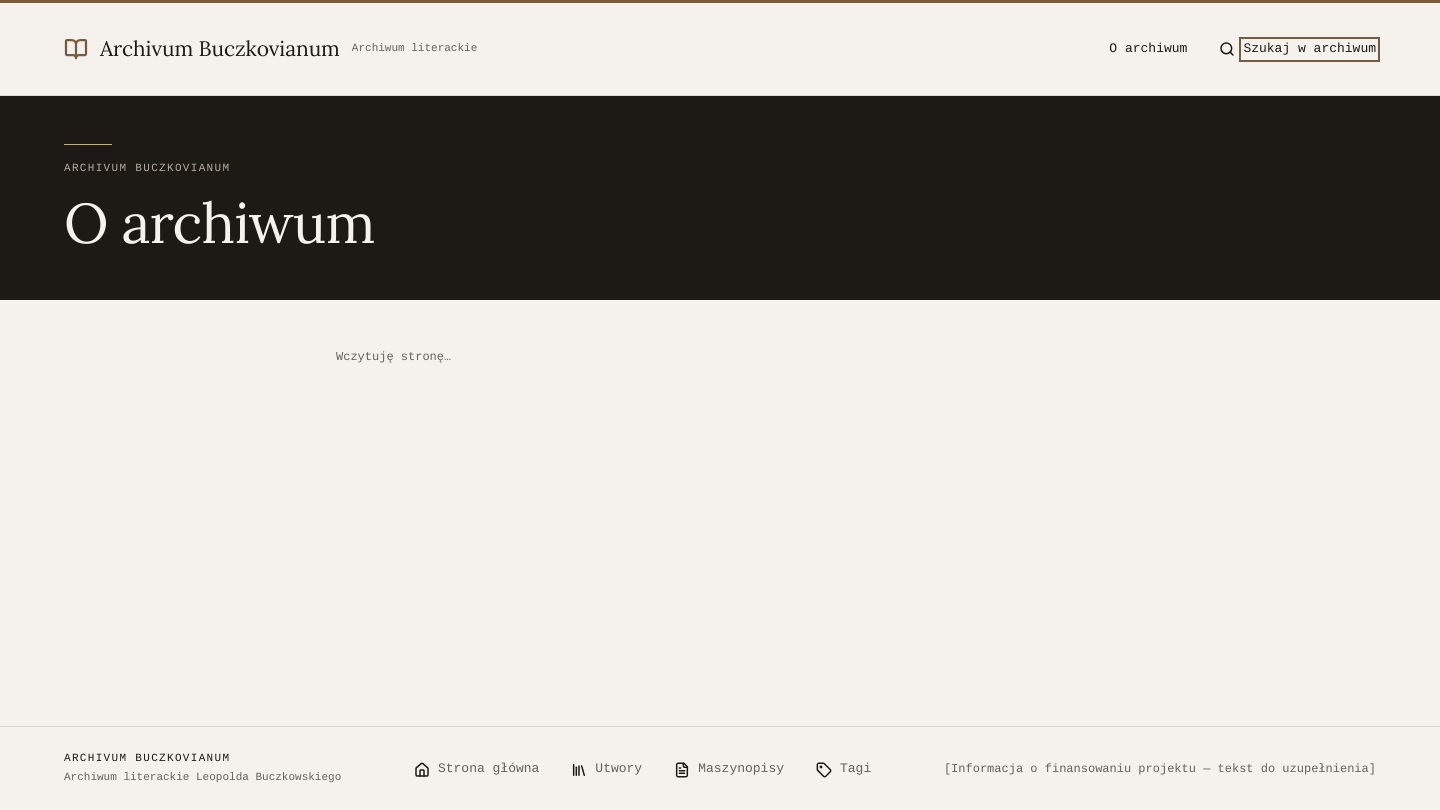
Scenario: SearchCombobox › US-RA-17 AC1: without matches the list stays closed
Type "czarny" into the dropdown labelled "Szukaj w archiwum". click: (1310, 49)
box: [1243,41,1376,58]
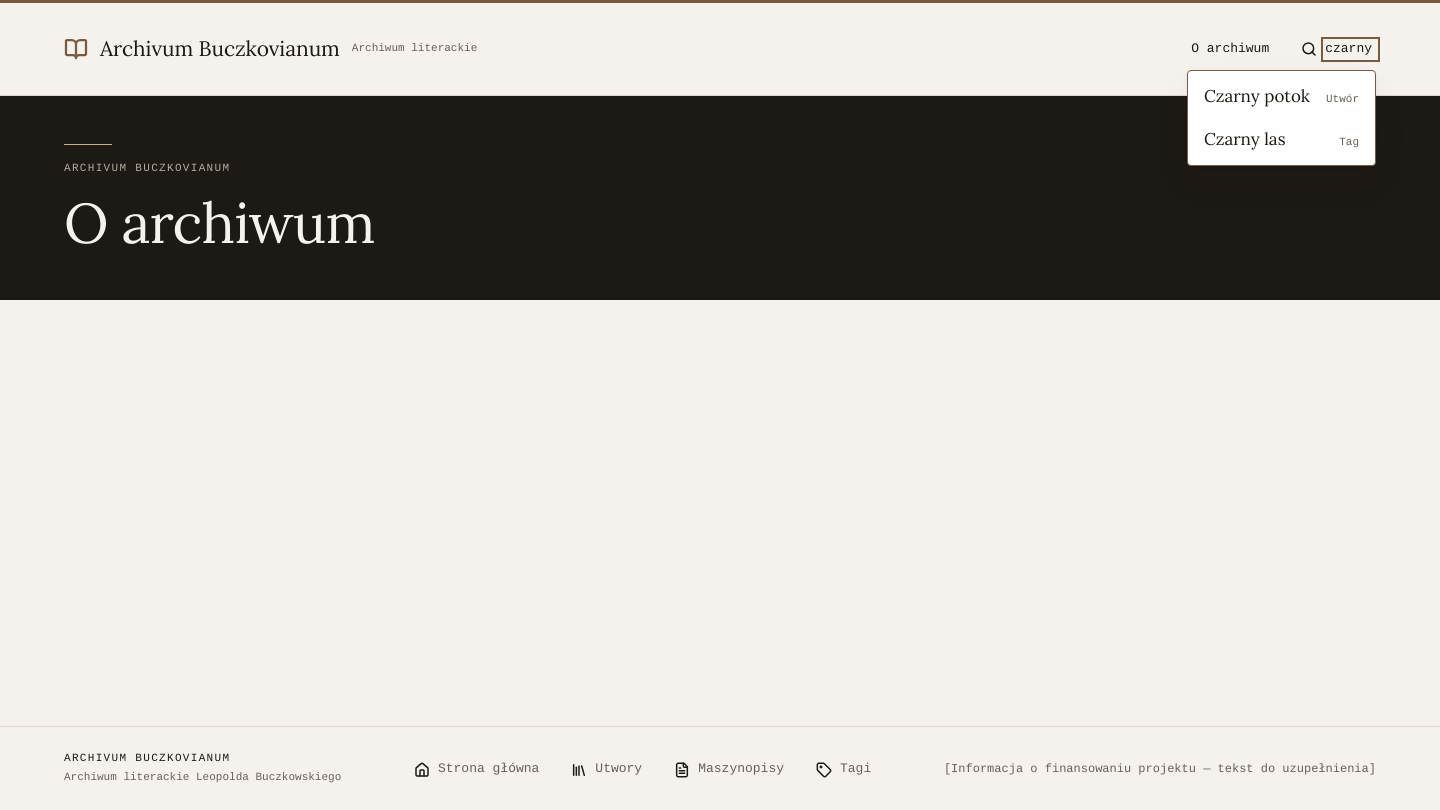
Replace the text in the dropdown named "Szukaj w archiwum" with "wertepy". click: (1351, 49)
box: [1325,41,1376,58]
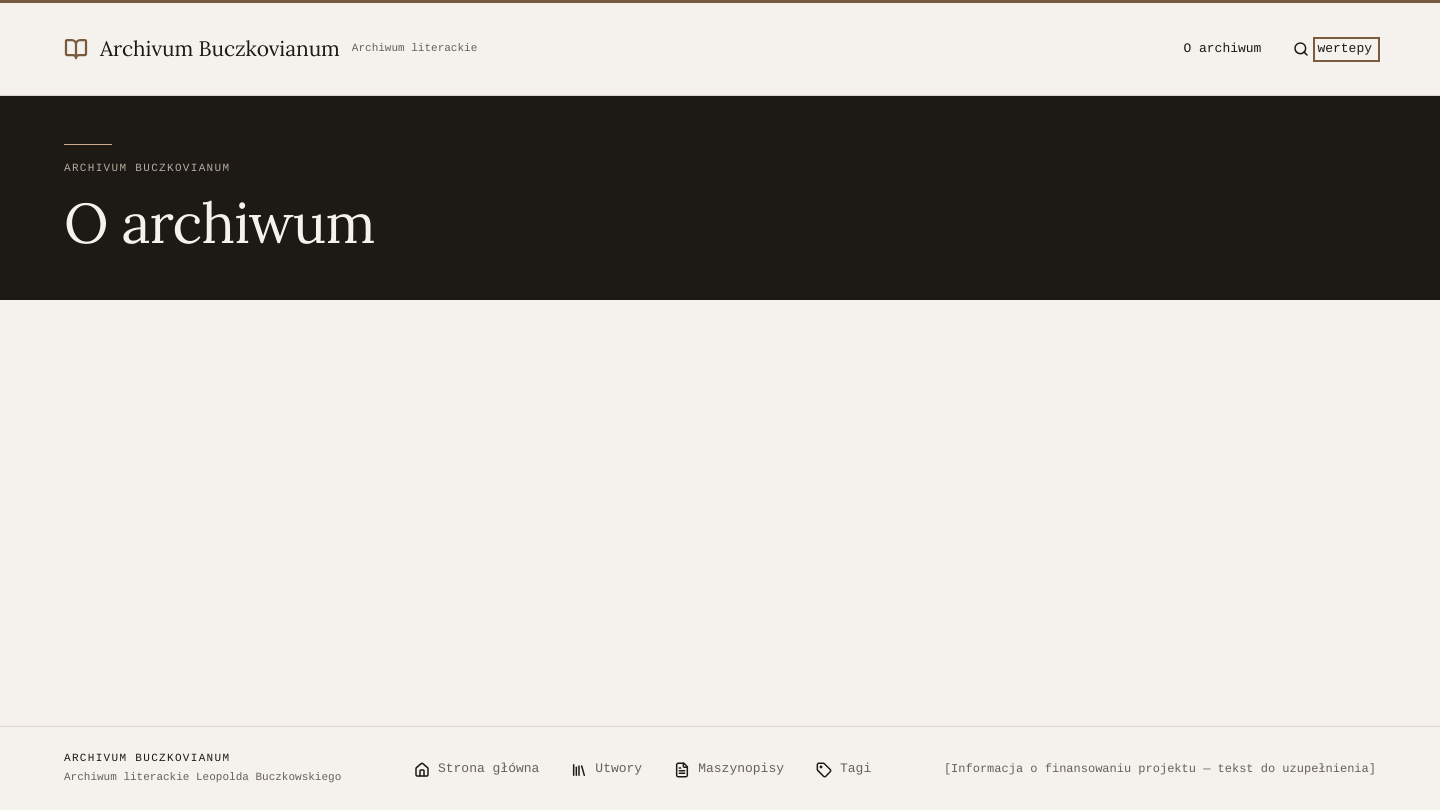
expect the list is gone: met
